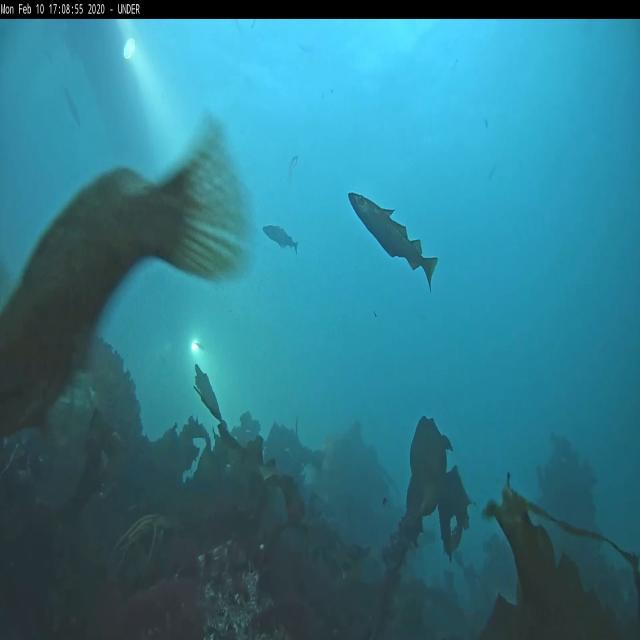fish: (1, 108, 253, 440), (348, 192, 438, 294), (262, 222, 300, 254), (64, 83, 81, 127), (288, 154, 298, 186)
